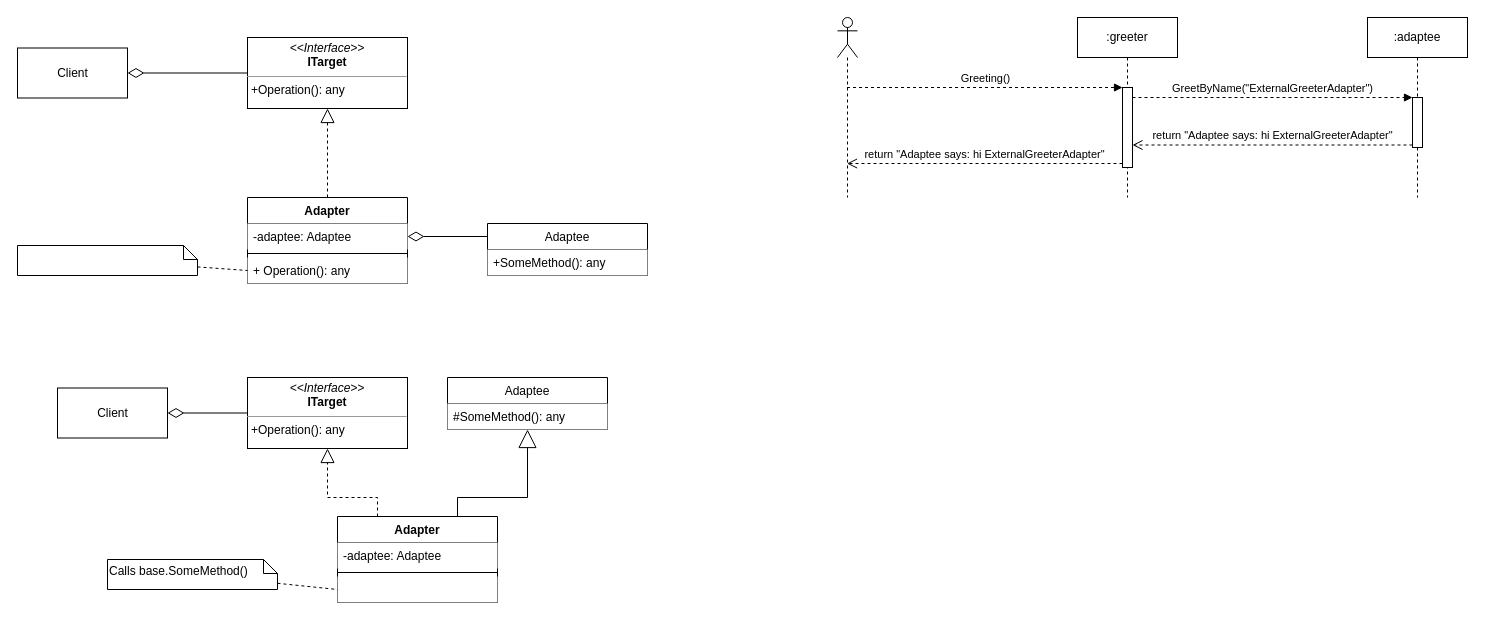
Image size: 1485x623. Some labels were removed from this diagram. The centre of each missing label's shape, as x and y in pixels:
"+Operation(): any" belongs at (417,589).
"Calls adaptee.SomeMethod()" belongs at (107,260).
